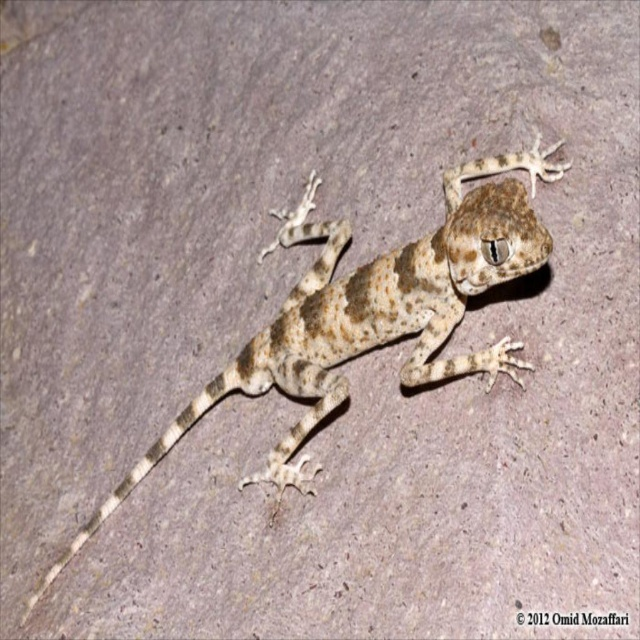Lizard: (22, 131, 573, 627)
